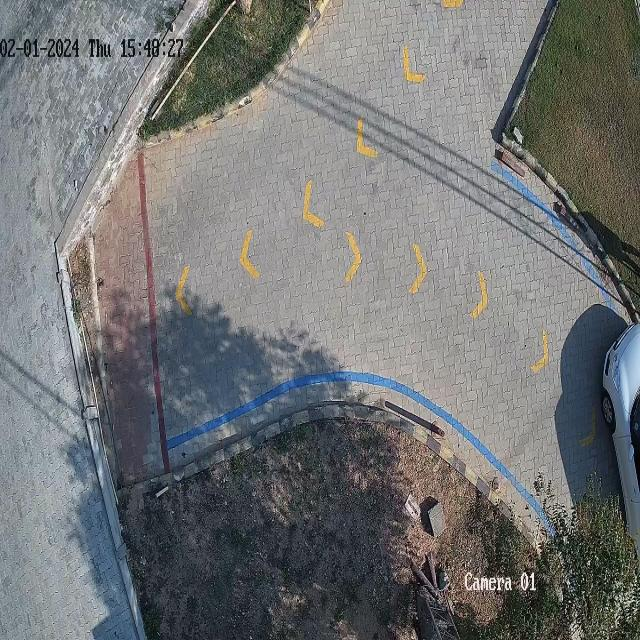car: (602, 323, 640, 556)
